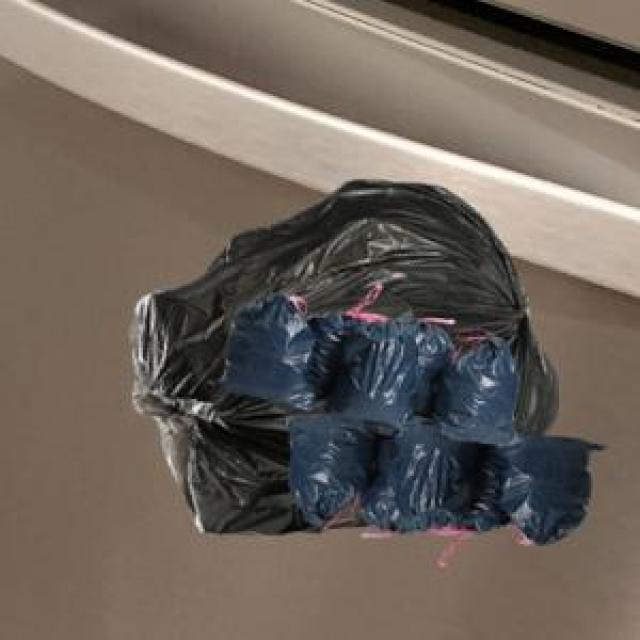Vinyl: (135, 181, 595, 542)
